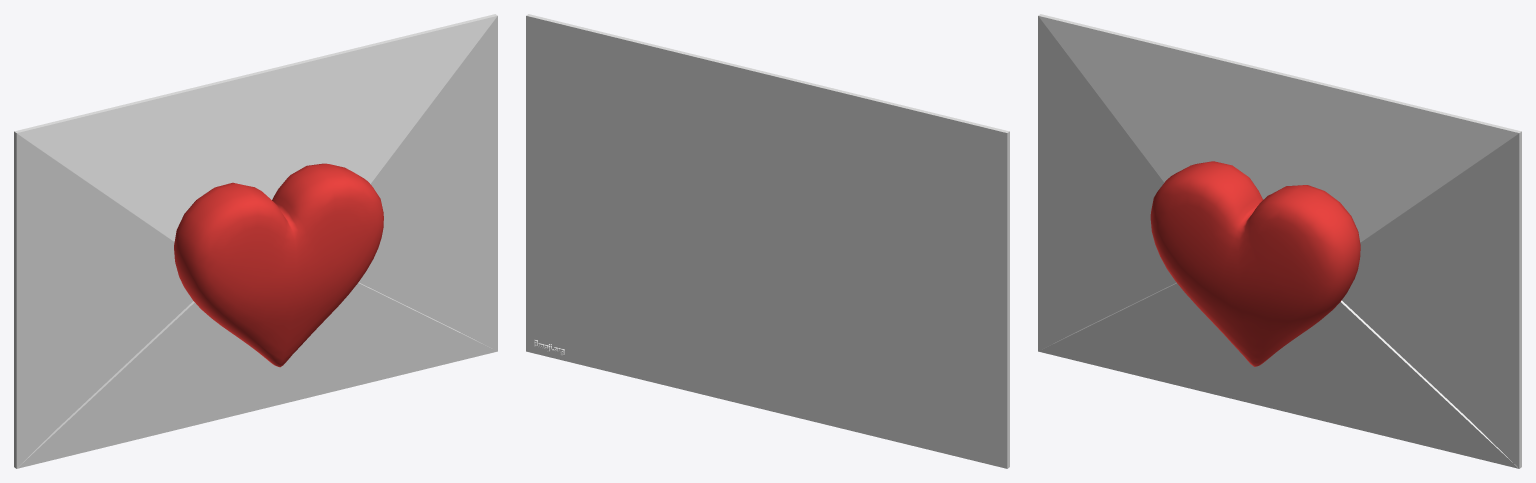
The model's file is love_letter.glb.
3 views of the same model, side by side, from view 1: azimuth 30°, elevation 25°; view 2: azimuth 150°, elevation 25°; view 3: azimuth 330°, elevation 25° (orthographic).
Parts seen in each view (by area): view 1: Plane.006; view 2: Plane.006; view 3: Plane.006.
Boxes of the visible parts, <box> form: Plane.006: <box>14,14,497,468</box>; Plane.006: <box>526,14,1009,468</box>; Plane.006: <box>1038,14,1521,468</box>.
Bounding box in the file's own units: 1.8 × 1.2 × 0.2822.
1 material, 1 textured.
